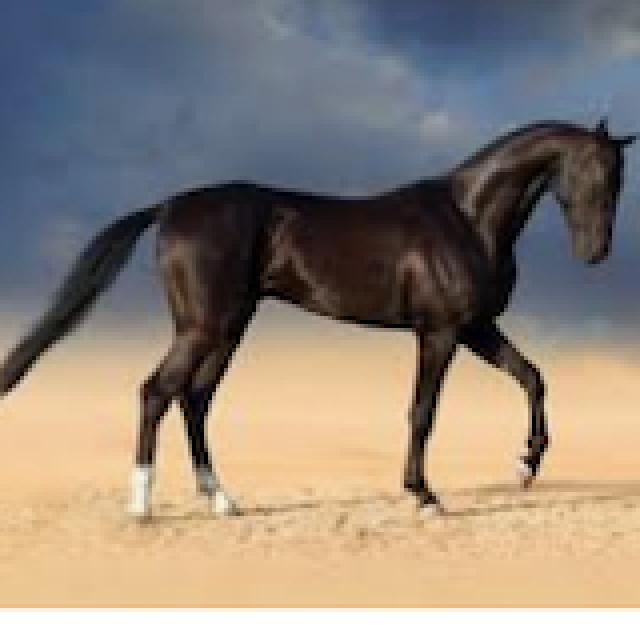Horse: (0, 108, 636, 528)
